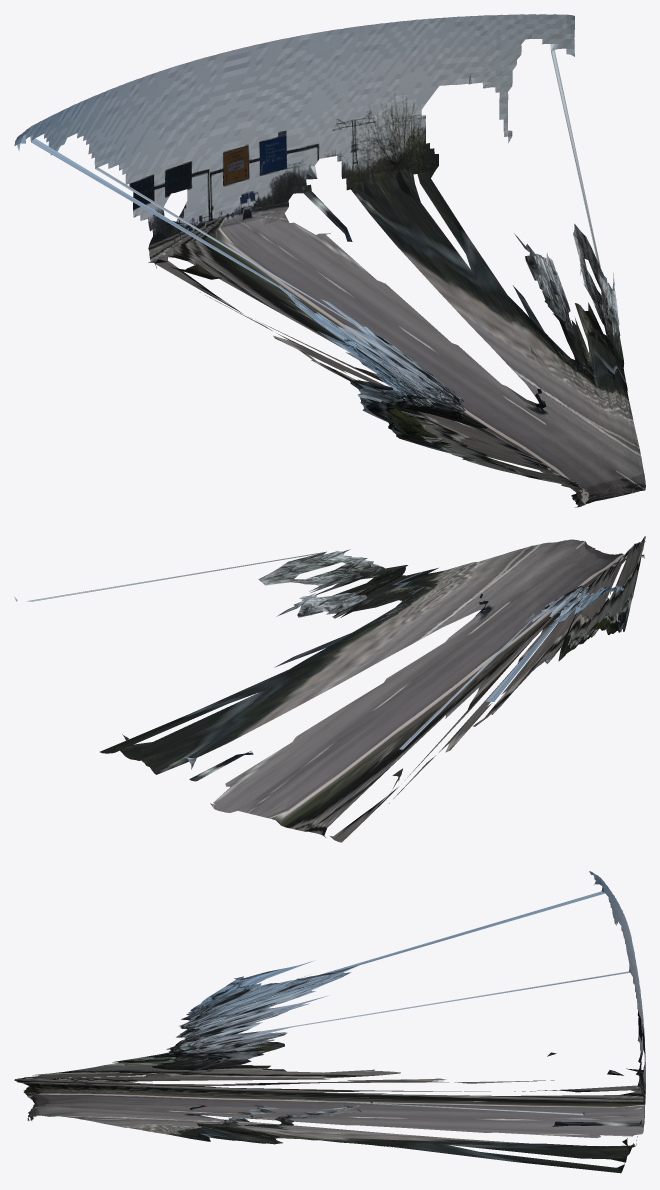
3 renders of one model, top to bottom at view 1: azimuth 30°, elevation 25°; view 2: azimuth 150°, elevation 25°; view 3: azimuth 270°, elevation 25°, orthographic. The views are drawn at different scales.
Visible parts, largest first — view 1: defaultobject; view 2: defaultobject; view 3: defaultobject.
Boxes of the visible parts, x1,y1,x2,y2 form: defaultobject: (14, 14, 645, 507); defaultobject: (14, 536, 645, 842); defaultobject: (14, 871, 645, 1173).
Size of the model in its own units: 37.31 by 12.5 by 45.37.
Materials: 1 (1 with a texture image).
